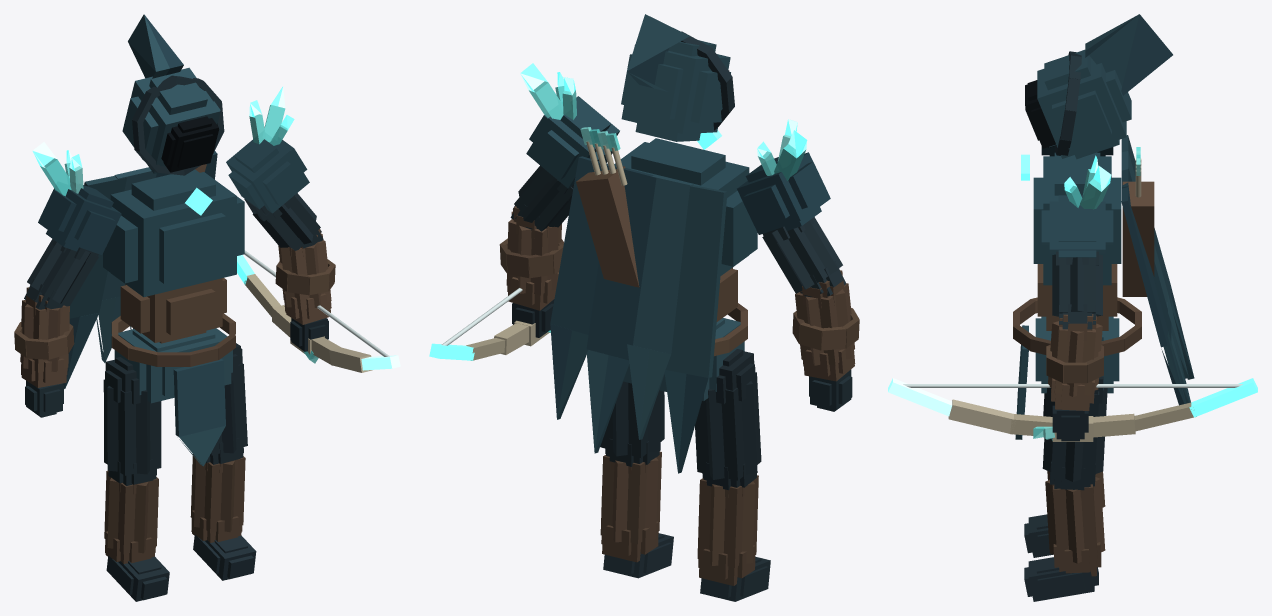
3 views of the same model, side by side, from view 1: azimuth 30°, elevation 25°; view 2: azimuth 150°, elevation 25°; view 3: azimuth 270°, elevation 25° (orthographic). The views are drawn at different scales.
Parts seen in each view (by area): view 1: CrystalArcher; view 2: CrystalArcher; view 3: CrystalArcher.
Boxes of the visible parts, bbox=[...] form: CrystalArcher: bbox=[14, 14, 400, 601]; CrystalArcher: bbox=[429, 14, 859, 601]; CrystalArcher: bbox=[888, 14, 1257, 601].
Size of the model in its own units: 0.9237 by 1.53 by 0.9169.
